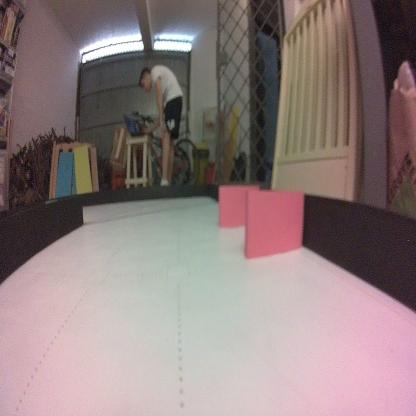magenta: (243, 189, 305, 261), (217, 181, 259, 227)
